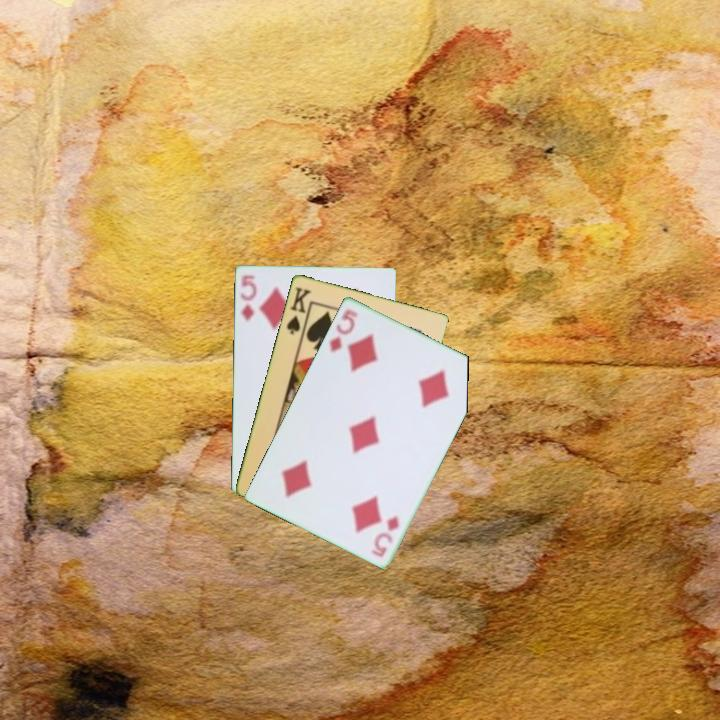5d: (325, 304, 360, 355), (368, 511, 402, 559), (237, 272, 259, 324)
Ks: (283, 283, 314, 339)
